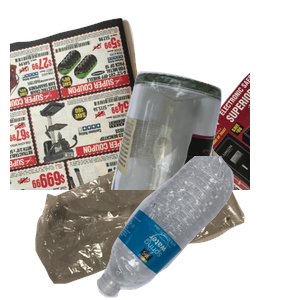glass: (109, 69, 300, 249)
paper: (10, 15, 250, 195)
plastic: (94, 156, 300, 300)
trash: (33, 145, 270, 300)
